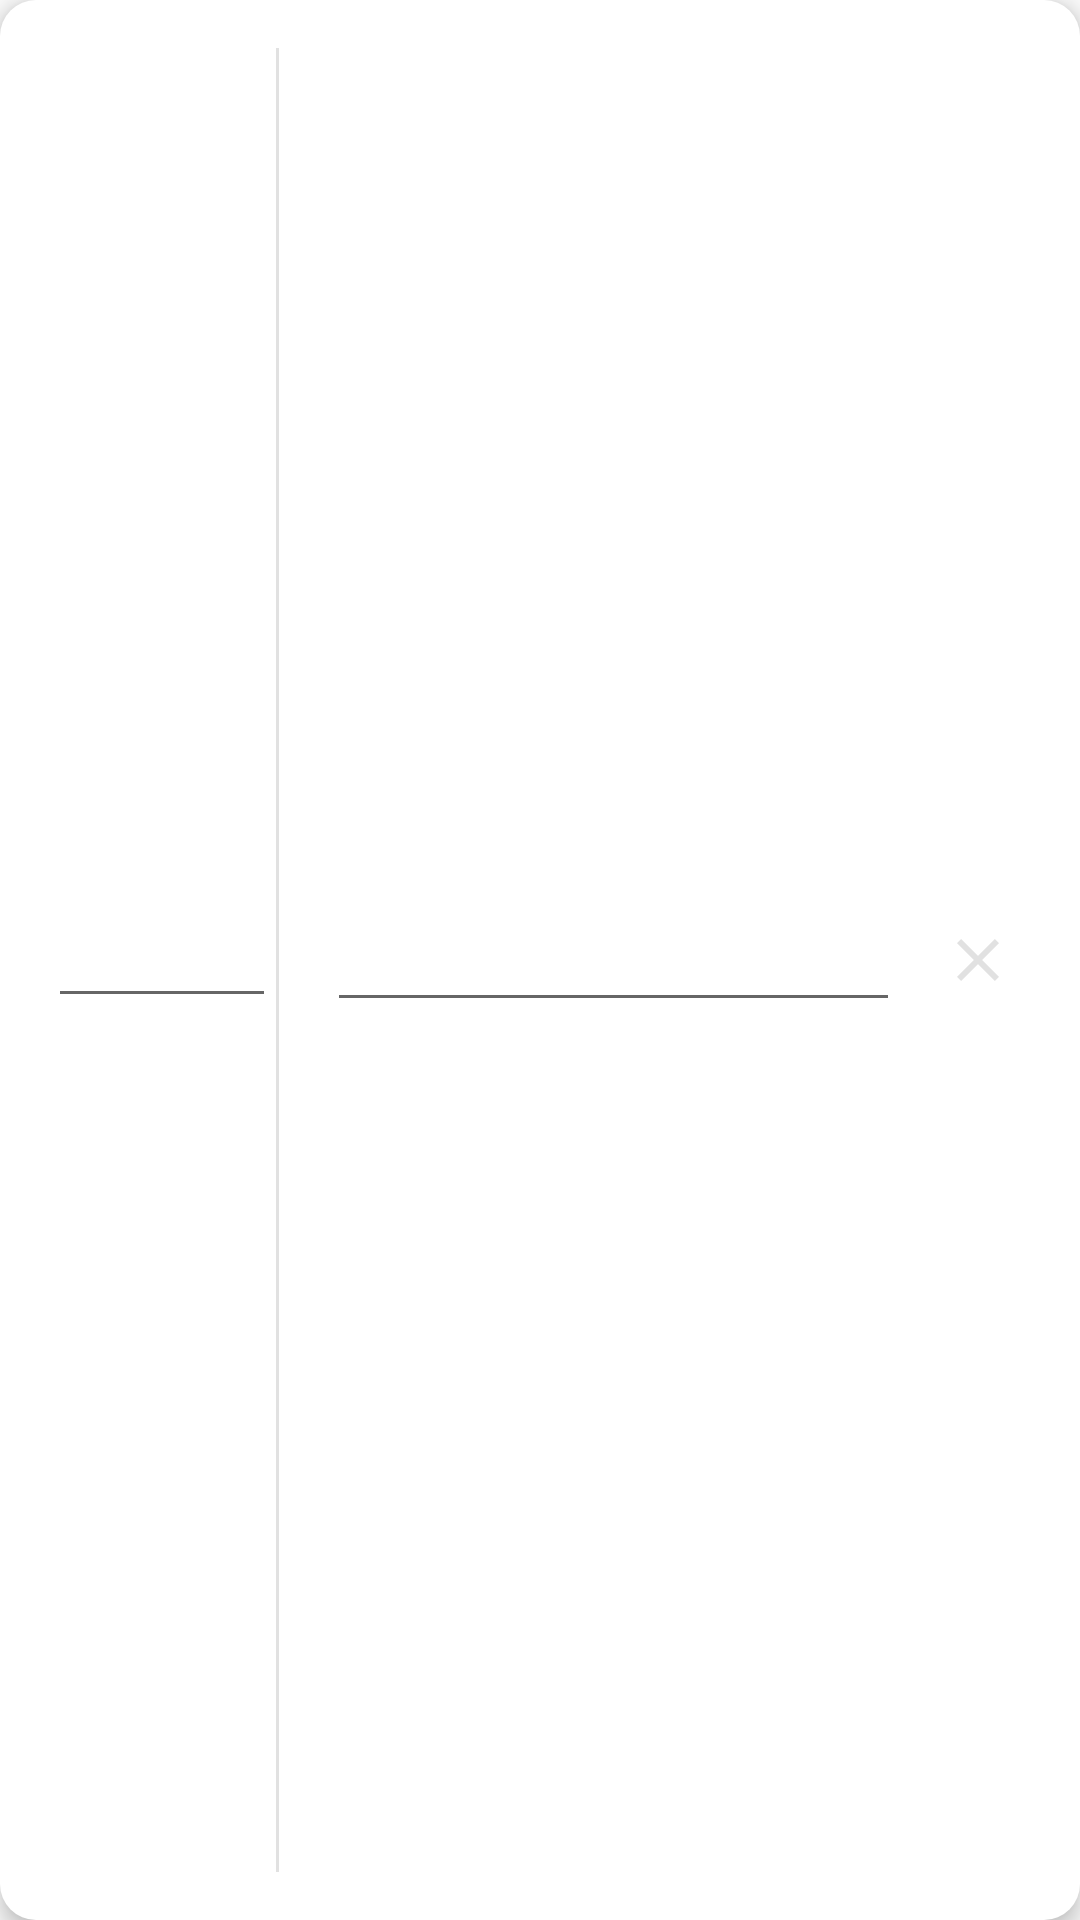

Screen size 1080px×1920px. Icon name, then its center in pixels as (x,y):
删除: (978,960)
